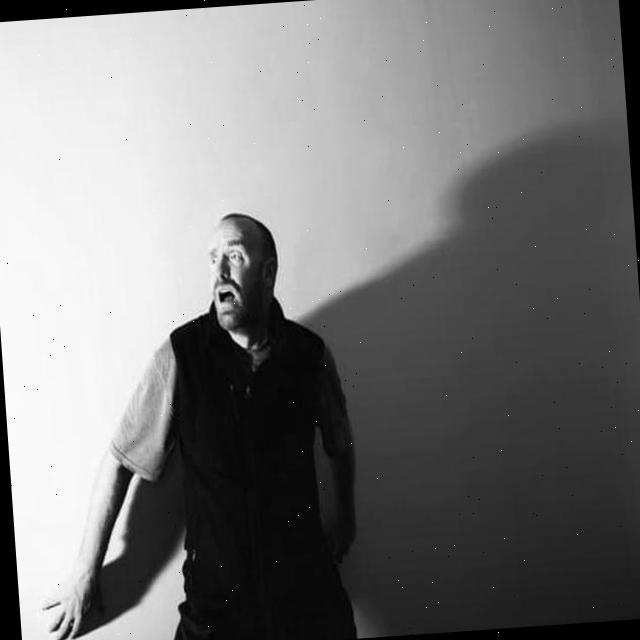Fear: (207, 222, 260, 332)
